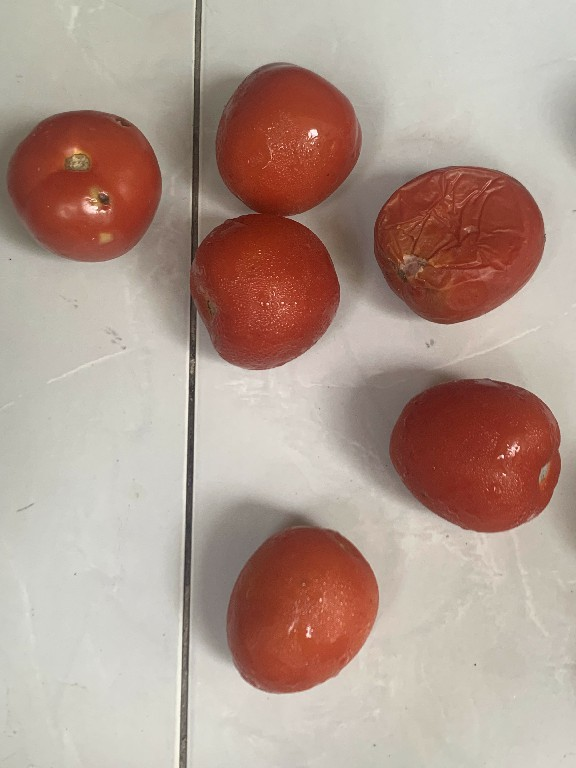NG: (370, 156, 549, 335), (6, 99, 178, 272)
OK: (378, 361, 572, 540), (219, 514, 388, 705), (177, 210, 351, 379), (211, 51, 362, 211)
